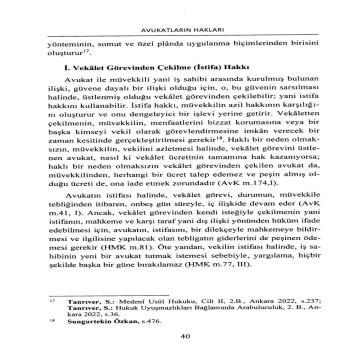footer: (62, 299, 326, 324)
header: (136, 26, 229, 34)
